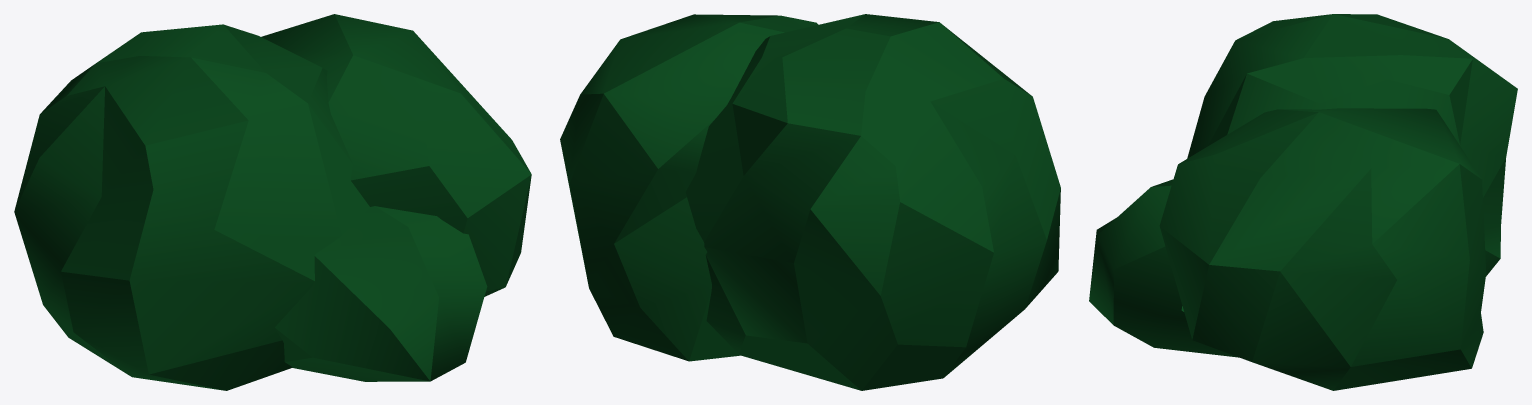
Rendered from Bush1.fbx.
3 views of the same model, side by side, from view 1: azimuth 30°, elevation 25°; view 2: azimuth 150°, elevation 25°; view 3: azimuth 270°, elevation 25° (orthographic). The views are drawn at different scales.
Visible parts, largest first — view 1: Bush1; view 2: Bush1; view 3: Bush1.
Part boxes in pixels (x1=…): Bush1: x1=14, y1=14, x2=531, y2=390; Bush1: x1=560, y1=14, x2=1060, y2=390; Bush1: x1=1089, y1=14, x2=1517, y2=390.
Bounding box in the file's own units: 36.53 × 22.94 × 33.53.
